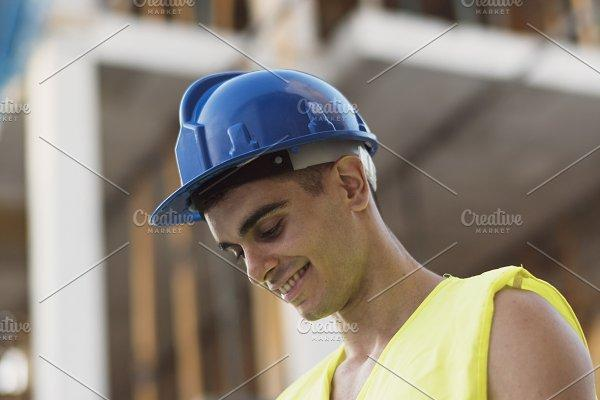helmet: (138, 69, 396, 235)
person: (99, 46, 597, 400)
vest: (236, 299, 600, 400)
